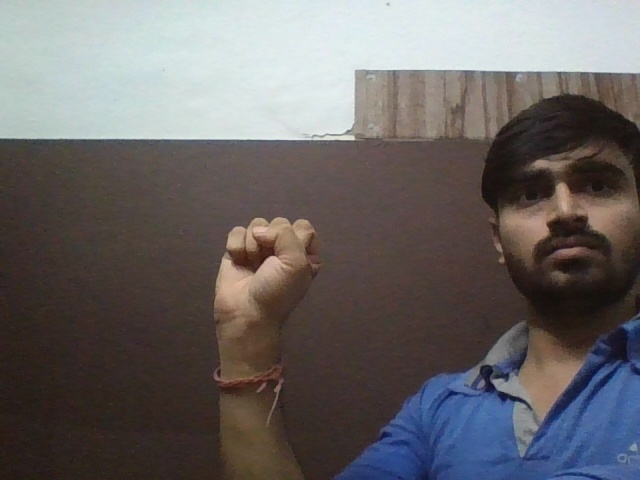S: (206, 221, 323, 335)
